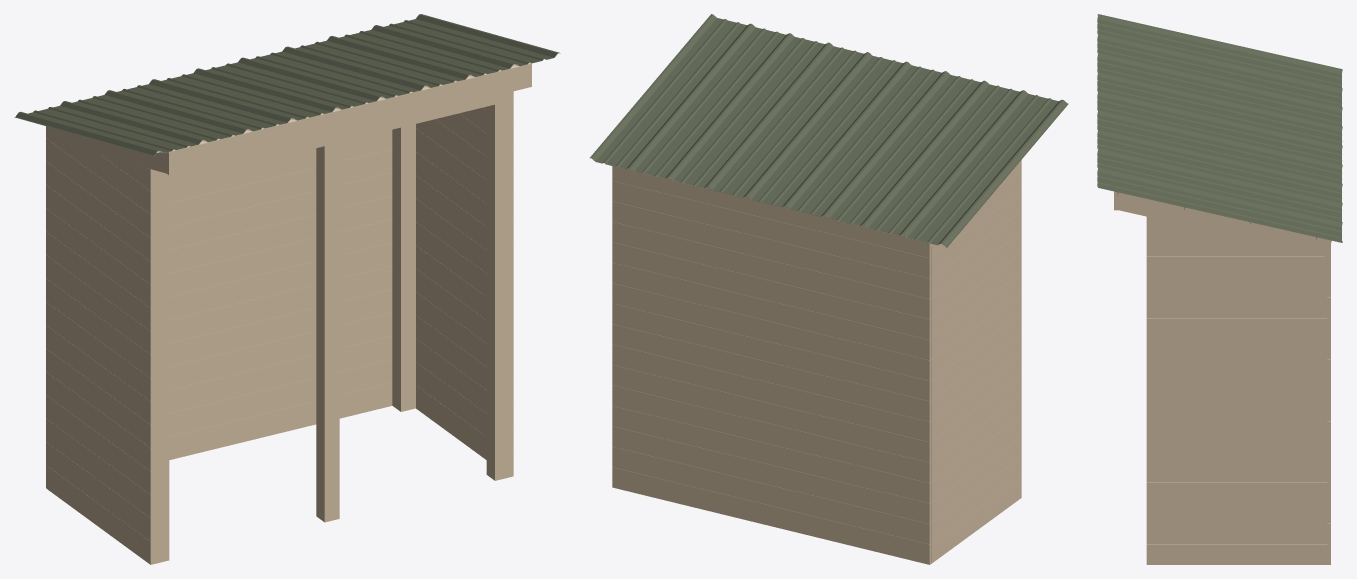
The model's file is Wood_Shed_01.glb.
3 views of the same model, side by side, from view 1: azimuth 30°, elevation 25°; view 2: azimuth 150°, elevation 25°; view 3: azimuth 270°, elevation 25° (orthographic). The views are drawn at different scales.
Visible parts, largest first — view 1: Corrugated Metal.002, Corrugated Metal.001, Corrugated Metal.003, 1x6in Board.012, 2x4in Board.197, 2x4in Board.092, 2x4in Board.097, 1x6in Board.014, 1x6in Board.015, 1x6in Board.017, 1x6in Board.019, 1x6in Board.022 (+44 smaller); view 2: Corrugated Metal.002, Corrugated Metal.001, Corrugated Metal.003, 1x6in Board.027, 1x6in Board.017, 1x6in Board.018, 1x6in Board.022, 1x6in Board.013, 1x6in Board.014, 1x6in Board.019, 1x6in Board.023, 1x6in Board.026 (+23 smaller); view 3: Corrugated Metal.002, Corrugated Metal.003, Corrugated Metal.001, 1x6in Board.048, 1x6in Board.050, 1x6in Board.052, 1x6in Board.059, 1x6in Board.045, 1x6in Board.047, 1x6in Board.049, 1x6in Board.051, 1x6in Board.053 (+9 smaller).
Boxes of the visible parts, x1=… form: Corrugated Metal.002: x1=14, y1=79, x2=293, y2=155; Corrugated Metal.001: x1=162, y1=46, x2=427, y2=123; Corrugated Metal.003: x1=295, y1=14, x2=560, y2=88; 1x6in Board.012: x1=167, y1=63, x2=531, y2=175; 2x4in Board.197: x1=320, y1=142, x2=339, y2=522; 2x4in Board.092: x1=491, y1=101, x2=509, y2=480; 2x4in Board.097: x1=154, y1=184, x2=169, y2=563; 1x6in Board.014: x1=46, y1=359, x2=392, y2=465; 1x6in Board.015: x1=46, y1=336, x2=392, y2=442; 1x6in Board.017: x1=46, y1=289, x2=392, y2=395; 1x6in Board.019: x1=46, y1=242, x2=392, y2=349; 1x6in Board.022: x1=46, y1=172, x2=392, y2=278; Corrugated Metal.002: x1=823, y1=71, x2=1068, y2=247; Corrugated Metal.001: x1=706, y1=42, x2=944, y2=219; Corrugated Metal.003: x1=590, y1=14, x2=827, y2=188; 1x6in Board.027: x1=612, y1=181, x2=931, y2=278; 1x6in Board.017: x1=612, y1=385, x2=931, y2=482; 1x6in Board.018: x1=612, y1=365, x2=931, y2=462; 1x6in Board.022: x1=612, y1=283, x2=931, y2=380; 1x6in Board.013: x1=612, y1=467, x2=931, y2=564; 1x6in Board.014: x1=612, y1=446, x2=931, y2=544; 1x6in Board.019: x1=612, y1=344, x2=931, y2=442; 1x6in Board.023: x1=612, y1=262, x2=931, y2=360; 1x6in Board.026: x1=612, y1=201, x2=931, y2=298; Corrugated Metal.002: x1=1097, y1=14, x2=1342, y2=127; Corrugated Metal.003: x1=1097, y1=129, x2=1342, y2=242; Corrugated Metal.001: x1=1097, y1=72, x2=1342, y2=184; 1x6in Board.048: x1=1146, y1=482, x2=1327, y2=503; 1x6in Board.050: x1=1146, y1=441, x2=1327, y2=462; 1x6in Board.052: x1=1146, y1=400, x2=1327, y2=421; 1x6in Board.059: x1=1146, y1=256, x2=1327, y2=277; 1x6in Board.045: x1=1146, y1=544, x2=1327, y2=564; 1x6in Board.047: x1=1146, y1=503, x2=1327, y2=523; 1x6in Board.049: x1=1146, y1=462, x2=1327, y2=482; 1x6in Board.051: x1=1146, y1=421, x2=1327, y2=441; 1x6in Board.053: x1=1146, y1=380, x2=1327, y2=400.
Size of the model in its own units: 2.8 by 2.88 by 1.66.
